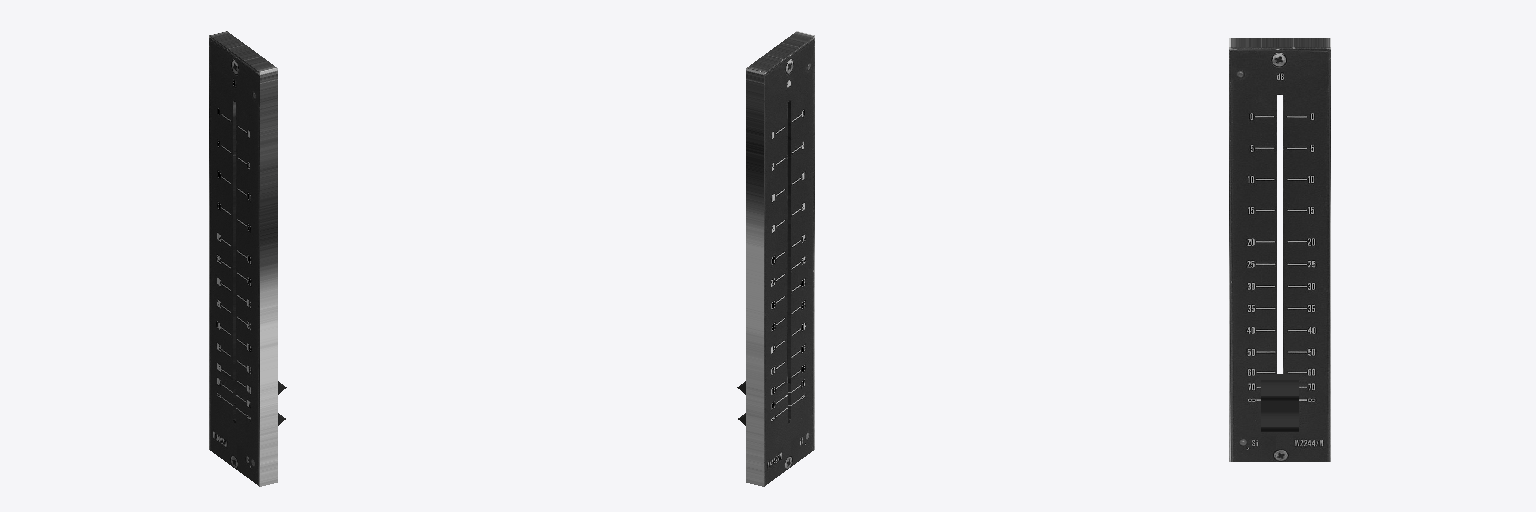
The picture shows the model from 3 angles: view 1: azimuth 30°, elevation 25°; view 2: azimuth 150°, elevation 25°; view 3: azimuth 270°, elevation 25°; orthographic projection.
Visible parts, largest first — view 1: Cube; view 2: Cube; view 3: Cube, Cube.001_Cube.002.
Boxes of the visible parts, x1=… form: Cube: x1=209, y1=31, x2=277, y2=486; Cube: x1=746, y1=31, x2=814, y2=486; Cube: x1=1229, y1=38, x2=1330, y2=461; Cube.001_Cube.002: x1=1261, y1=374, x2=1298, y2=431.
Size of the model in its own units: 4.81 by 44.89 by 9.96.
2 materials, 1 textured.